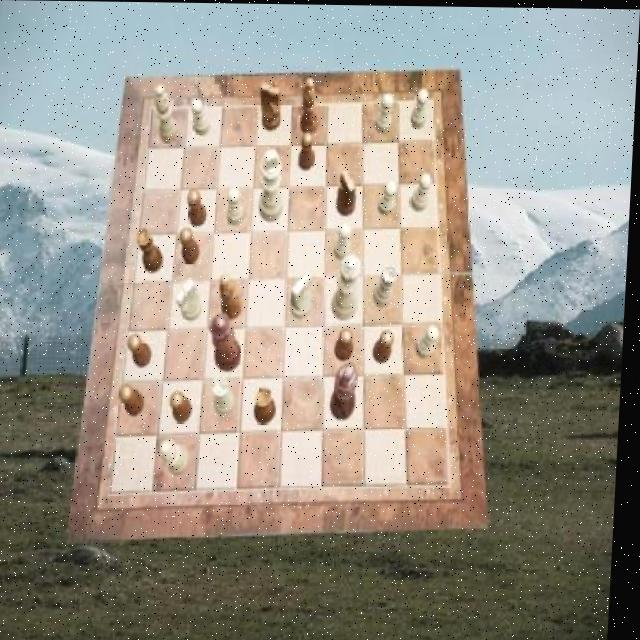bishop: (302, 77, 322, 136), (221, 274, 246, 320)
black-bishop: (333, 361, 362, 420)
black-king: (259, 82, 283, 131), (337, 169, 359, 215)
black-knight: (130, 332, 156, 366), (122, 383, 148, 416), (172, 390, 197, 423), (188, 190, 209, 227), (182, 227, 203, 263), (376, 329, 398, 362), (299, 131, 316, 170), (337, 329, 357, 362)
black-pawn: (211, 312, 246, 371)
black-queen: (137, 226, 166, 272), (258, 386, 282, 424)
black-rook: (155, 85, 181, 143), (163, 439, 195, 475)
white-bishop: (259, 148, 286, 222)
white-king: (176, 277, 206, 320), (293, 273, 316, 319)
white-knight: (417, 324, 443, 359), (375, 92, 395, 134), (190, 98, 212, 135), (412, 171, 433, 209), (410, 88, 429, 128), (337, 223, 356, 260), (229, 188, 248, 225), (380, 180, 400, 214)
white-pawn: (333, 253, 364, 319)
white-queen: (375, 263, 400, 306), (216, 376, 240, 415)
